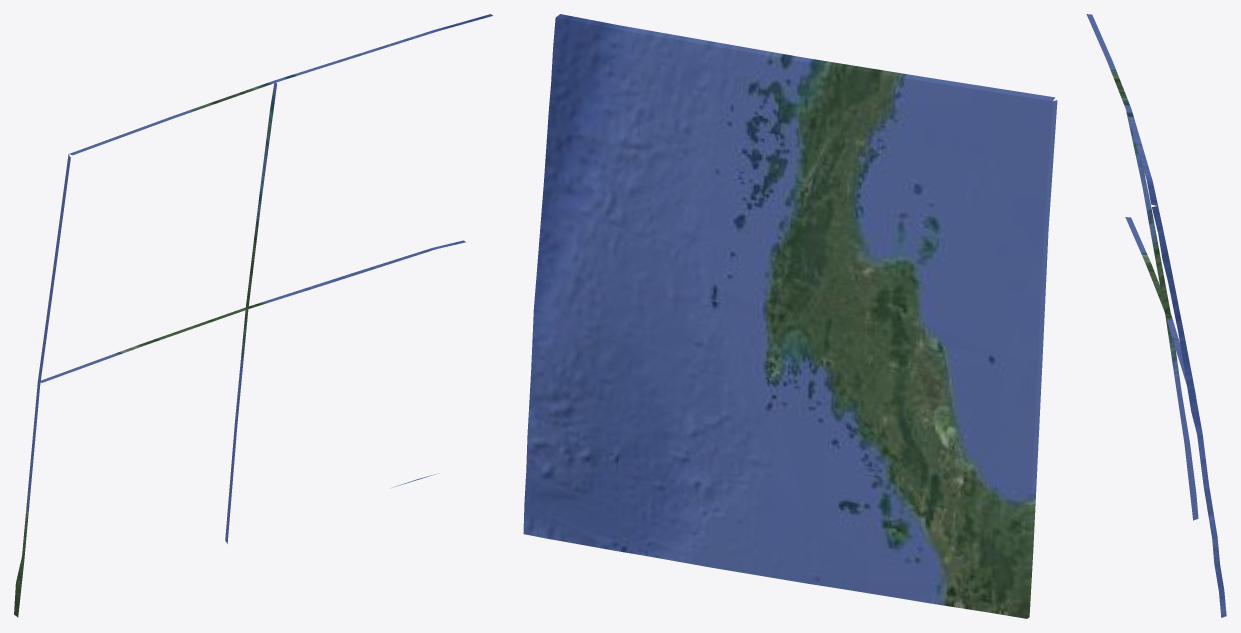
3 views of the same model, side by side, from view 1: azimuth 30°, elevation 25°; view 2: azimuth 150°, elevation 25°; view 3: azimuth 270°, elevation 25° (orthographic). The views are drawn at different scales.
Size of the model in its own units: 633065 by 623746 by 189697.
1 material, 1 textured.
